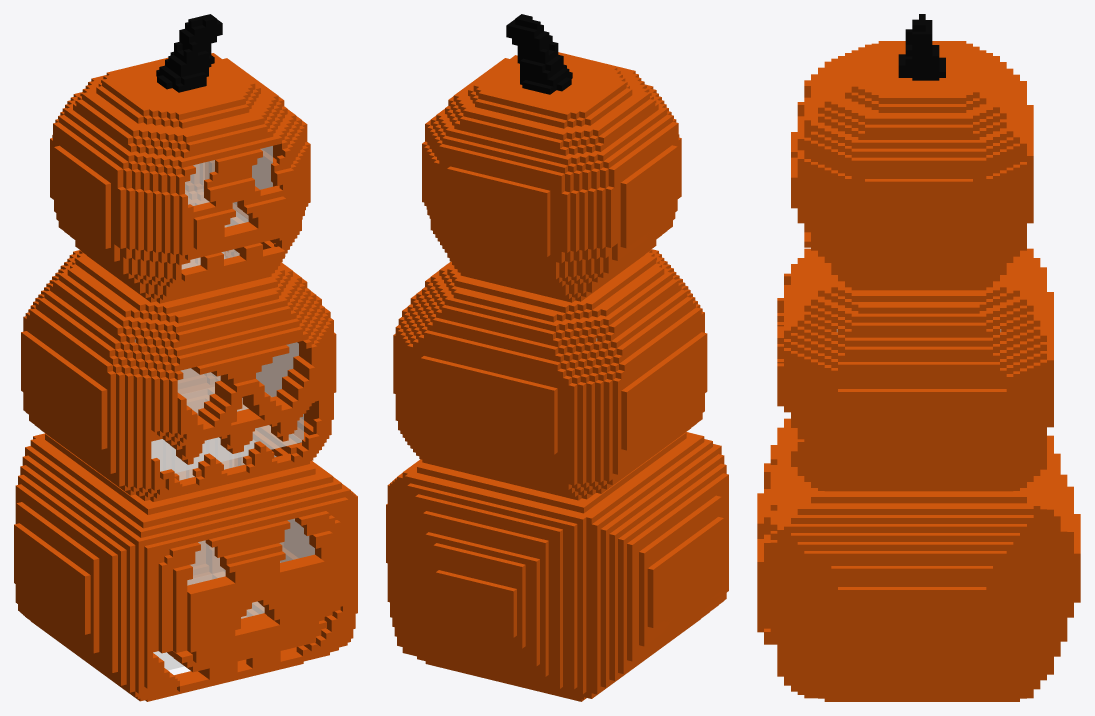
File: Pumpkin.fbx
The picture shows the model from 3 angles, left to right: view 1: azimuth 30°, elevation 25°; view 2: azimuth 150°, elevation 25°; view 3: azimuth 270°, elevation 25°; orthographic projection. The views are drawn at different scales.
Parts seen in each view (by area): view 1: ObjObject, LightBox2, LightBox1, LightBox3; view 2: ObjObject; view 3: ObjObject.
Part boxes in pixels (bbox=[...]): ObjObject: bbox=[14, 14, 357, 701]; LightBox2: bbox=[134, 249, 303, 472]; LightBox1: bbox=[152, 438, 314, 670]; LightBox3: bbox=[185, 146, 272, 227]; ObjObject: bbox=[386, 14, 728, 701]; ObjObject: bbox=[757, 14, 1080, 701].
Size of the model in its own units: 88.7 by 198 by 88.7.
